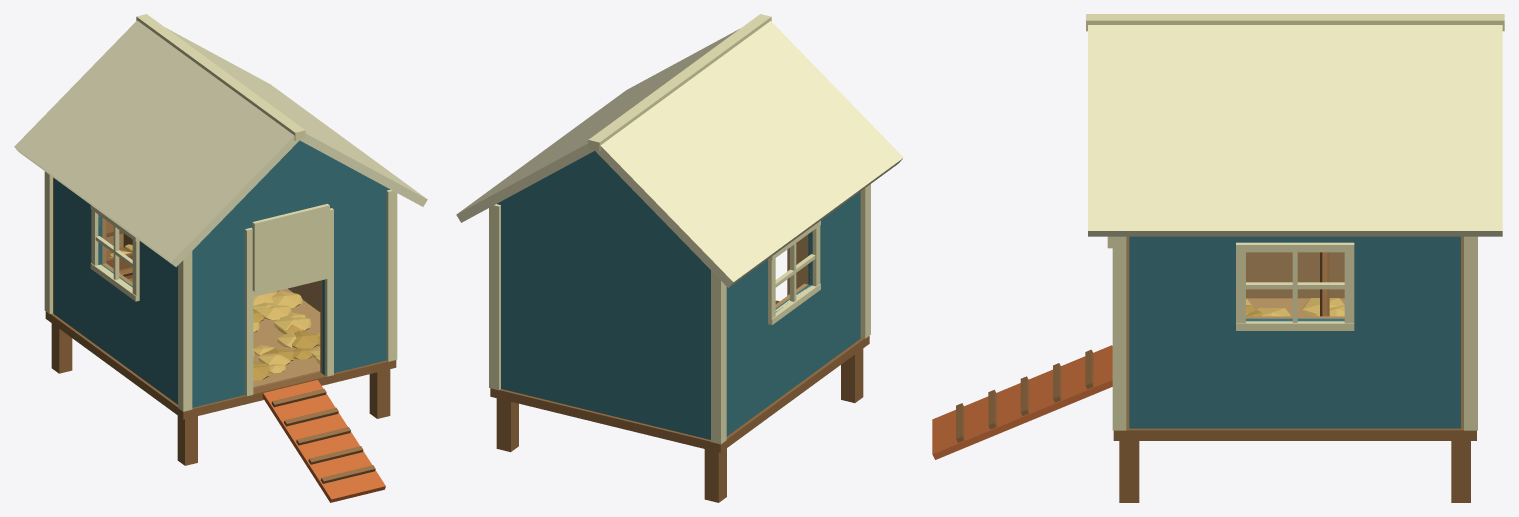
Rendered from ChickenCoop_Hollow.fbx.
3 views of the same model, side by side, from view 1: azimuth 30°, elevation 25°; view 2: azimuth 150°, elevation 25°; view 3: azimuth 270°, elevation 25° (orthographic). The views are drawn at different scales.
Parts seen in each view (by area): view 1: ChickenCoop_Hollow; view 2: ChickenCoop_Hollow; view 3: ChickenCoop_Hollow.
Part boxes in pixels (<box>): ChickenCoop_Hollow: <box>14,14,427,502</box>; ChickenCoop_Hollow: <box>456,14,903,502</box>; ChickenCoop_Hollow: <box>932,14,1504,502</box>.
Bounding box in the file's own units: 1.97 × 2.38 × 2.9.
